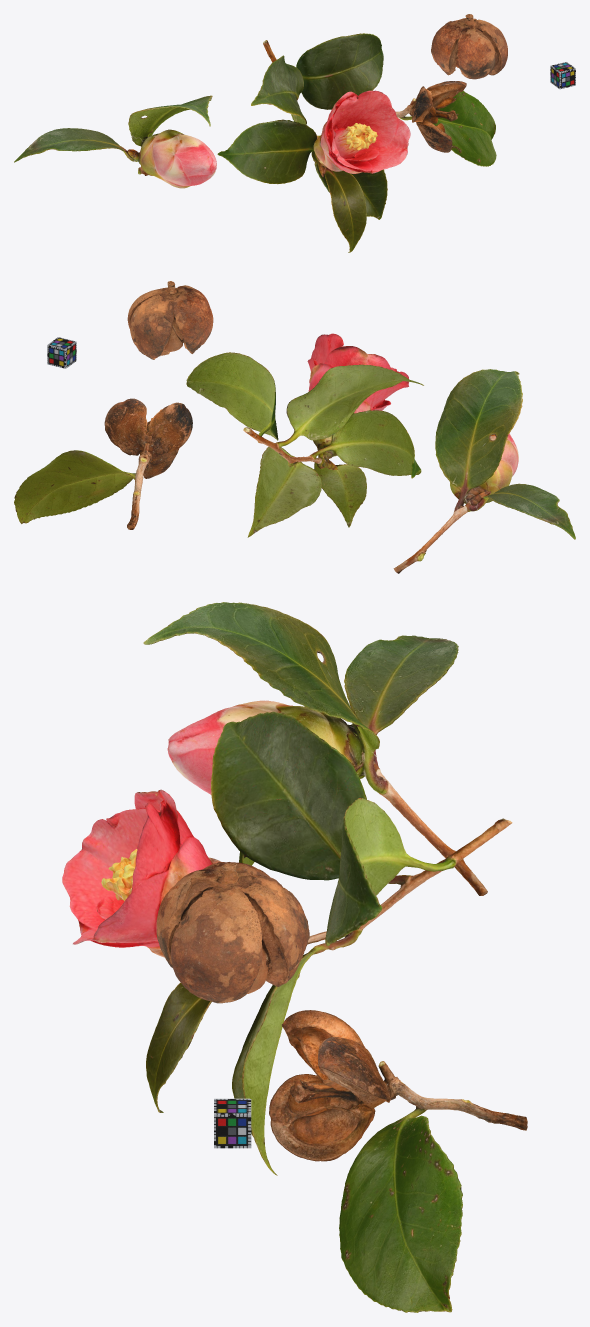
File: cc0__tsubaki_low-poly_camellia_japonica.glb
The picture shows the model from 3 angles, top to bottom: view 1: azimuth 30°, elevation 25°; view 2: azimuth 150°, elevation 25°; view 3: azimuth 270°, elevation 25°; orthographic projection. The views are drawn at different scales.
Visible parts, largest first — view 1: Result_TS1_0, Result_TS2_1, Result_TS3_2, Result_QS1_3, _Cube_4; view 2: Result_TS1_0, Result_TS2_1, Result_TS3_2, Result_QS1_3, _Cube_4; view 3: Result_TS1_0, Result_TS3_2, Result_TS2_1, Result_QS1_3, _Cube_4.
Part boxes in pixels (bbox=[...]): Result_TS1_0: bbox=[217, 33, 410, 252]; Result_TS2_1: bbox=[14, 95, 216, 188]; Result_TS3_2: bbox=[395, 81, 496, 166]; Result_QS1_3: bbox=[431, 14, 507, 79]; _Cube_4: bbox=[550, 62, 575, 89]; Result_TS1_0: bbox=[186, 333, 423, 537]; Result_TS2_1: bbox=[393, 369, 575, 573]; Result_TS3_2: bbox=[14, 398, 192, 529]; Result_QS1_3: bbox=[127, 281, 213, 359]; _Cube_4: bbox=[47, 337, 76, 368]; Result_TS1_0: bbox=[62, 712, 512, 1175]; Result_TS3_2: bbox=[269, 1010, 527, 1312]; Result_TS2_1: bbox=[143, 602, 487, 895]; Result_QS1_3: bbox=[156, 862, 309, 1003]; _Cube_4: bbox=[214, 1098, 251, 1148].
Bounding box in the file's own units: 0.3128 × 0.1148 × 0.1246.
5 materials, 5 textured.
